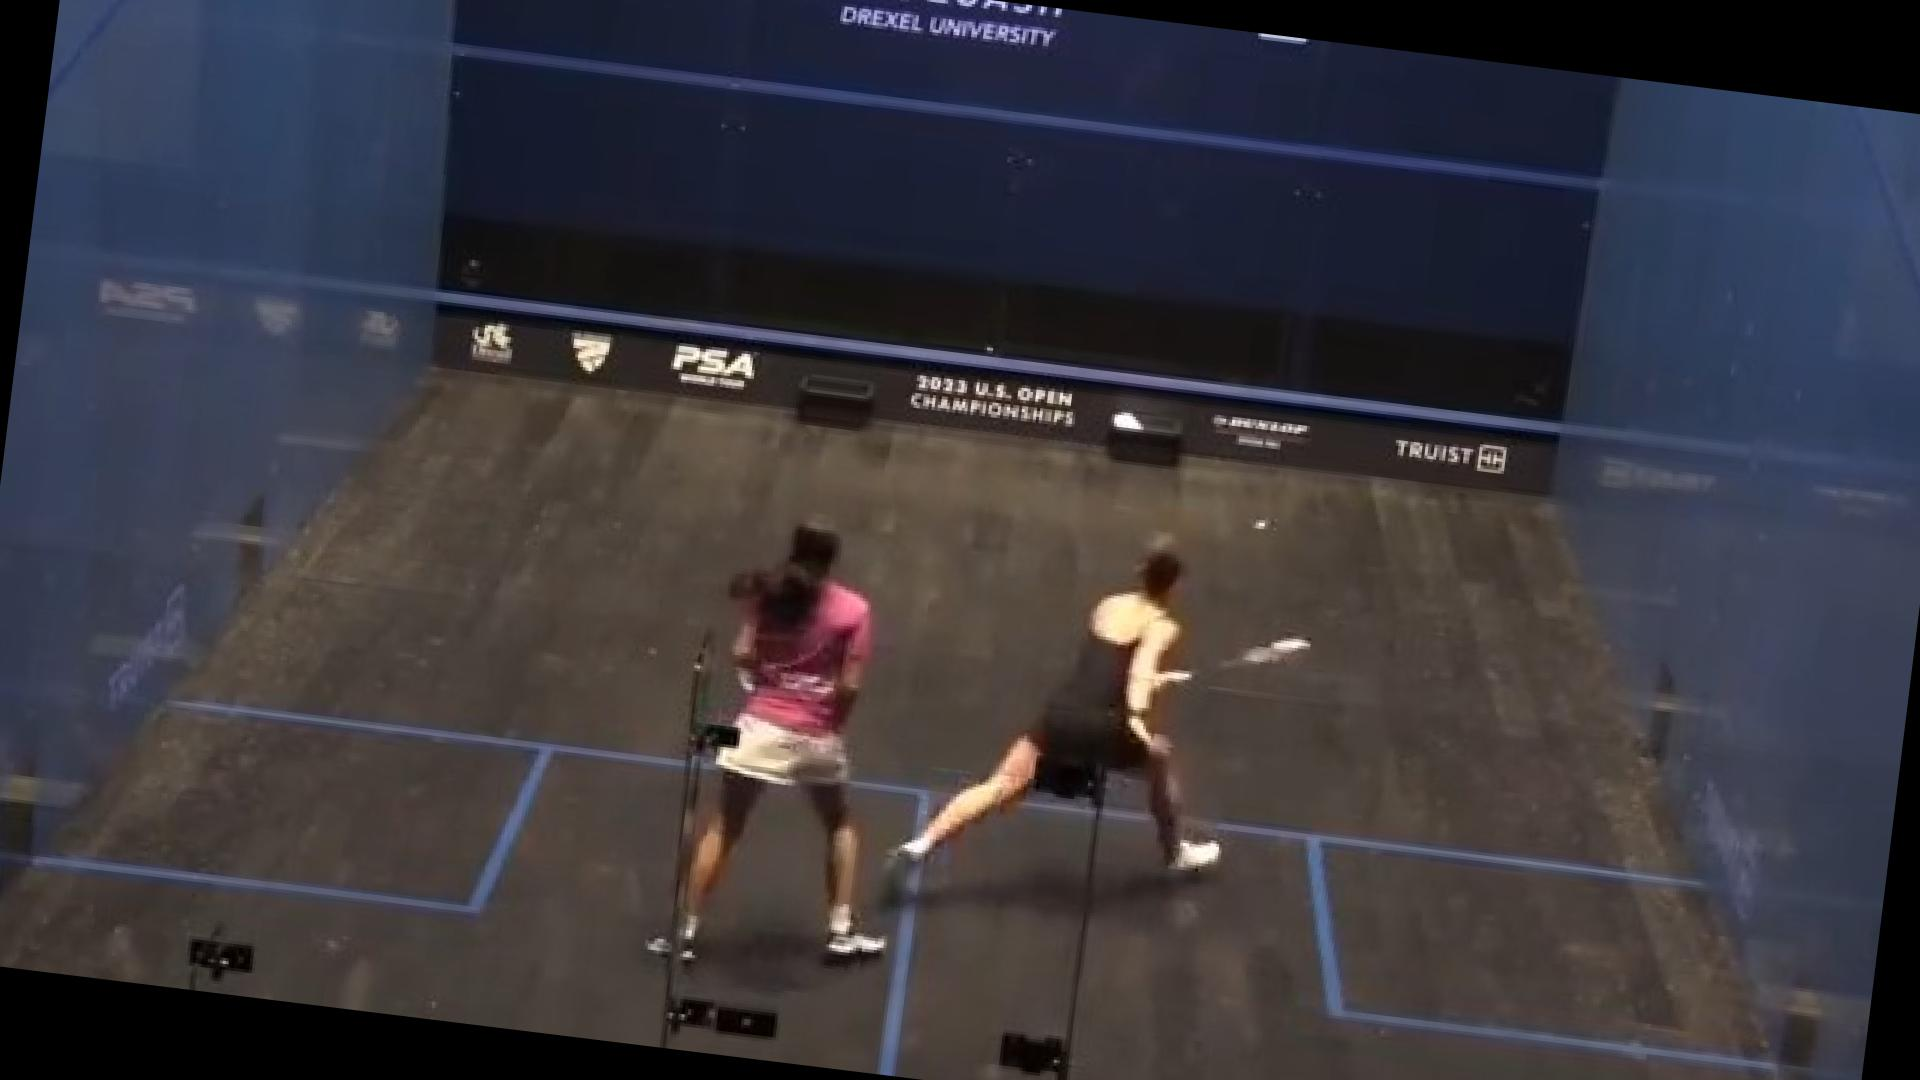Squash-Ball: (1235, 494, 1288, 558)
